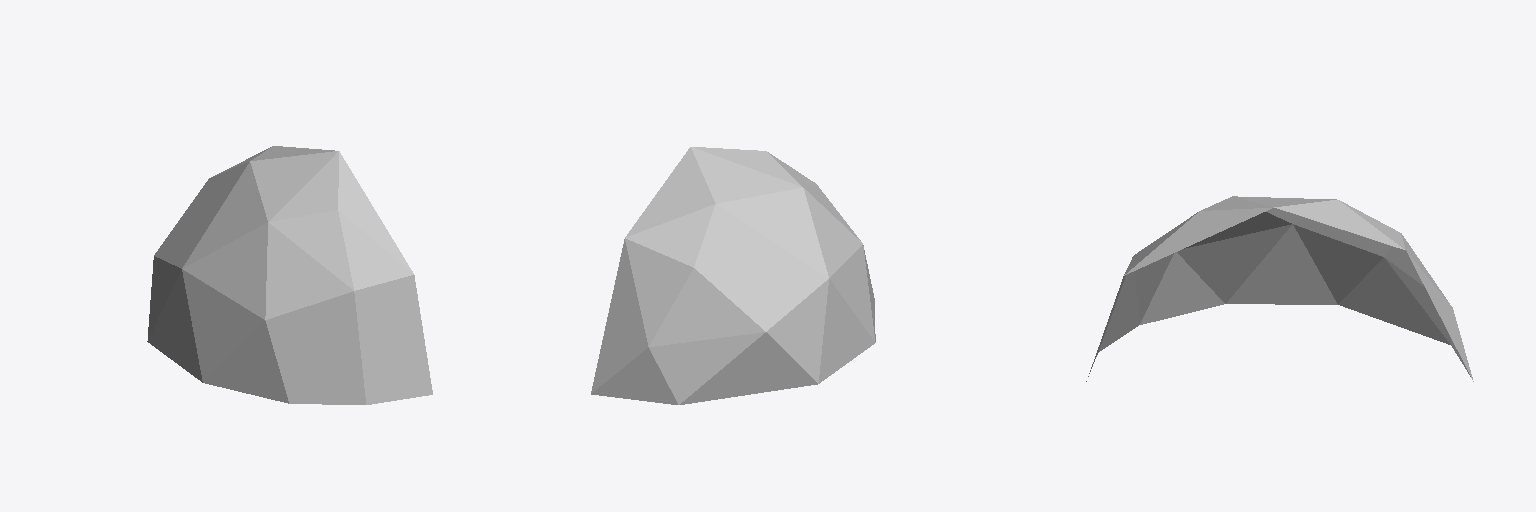
Rendered from atmoSphere.obj.
The picture shows the model from 3 angles: view 1: azimuth 30°, elevation 25°; view 2: azimuth 150°, elevation 25°; view 3: azimuth 270°, elevation 25°; orthographic projection.
Parts seen in each view (by area): view 1: Sphere; view 2: Sphere; view 3: Sphere.
Part boxes in pixels (bbox=[...]): Sphere: bbox=[147, 146, 432, 404]; Sphere: bbox=[591, 147, 875, 404]; Sphere: bbox=[1086, 196, 1473, 381].
Size of the model in its own units: 0.9788 by 1.02 by 2.05.